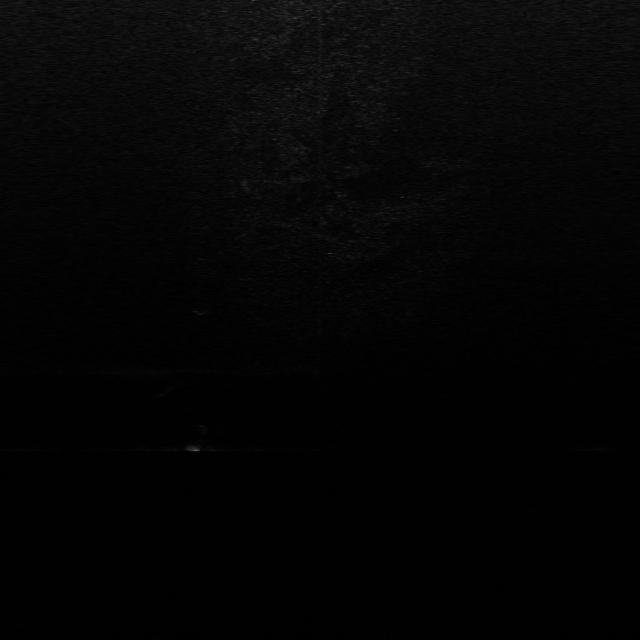ball: (168, 369, 196, 390)
circle cage: (188, 298, 216, 316)
tyre: (183, 424, 211, 453)
